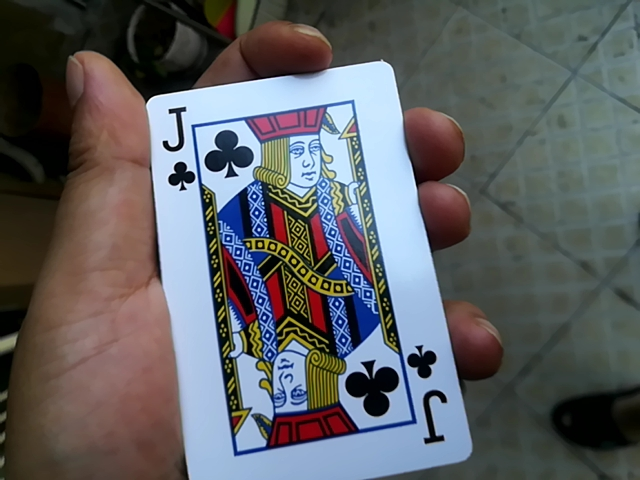mh j: (142, 57, 452, 480)
